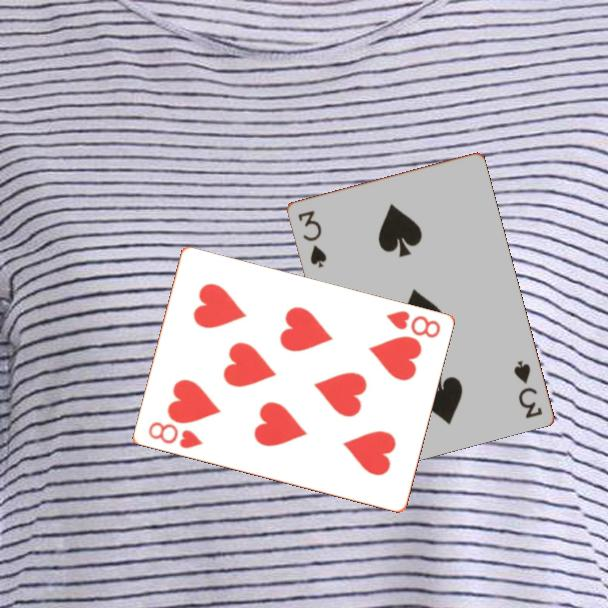h08: (144, 418, 205, 452), (382, 307, 443, 341)
s03: (510, 357, 545, 421), (294, 207, 329, 270)
